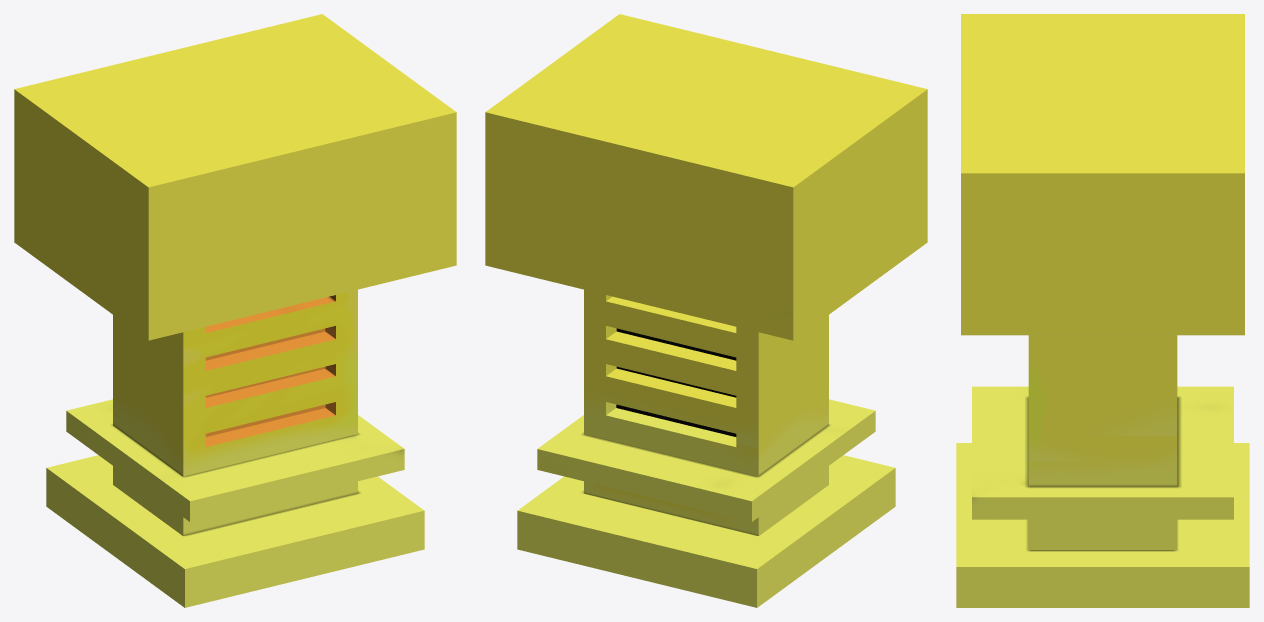
The model's file is player_spawn_1.obj.
The picture shows the model from 3 angles, left to right: view 1: azimuth 30°, elevation 25°; view 2: azimuth 150°, elevation 25°; view 3: azimuth 270°, elevation 25°; orthographic projection. The views are drawn at different scales.
Parts seen in each view (by area): view 1: 立方体; view 2: 立方体; view 3: 立方体.
Boxes of the visible parts, <box> form: 立方体: <box>14,14,456,607</box>; 立方体: <box>485,14,927,607</box>; 立方体: <box>956,14,1249,607</box>.
Bounding box in the file's own units: 5.07 × 6.72 × 3.95.
